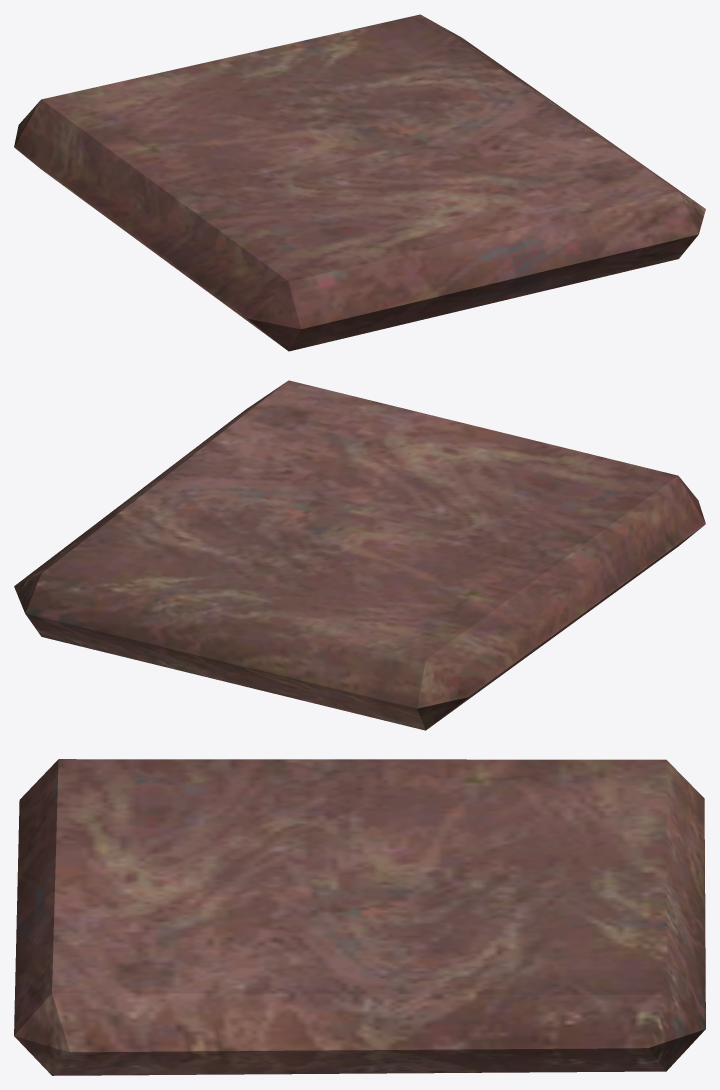
File: frn_all_throwpillow_med_s02_l1.fbx
3 renders of one model, top to bottom at view 1: azimuth 30°, elevation 25°; view 2: azimuth 150°, elevation 25°; view 3: azimuth 270°, elevation 25°, orthographic. The views are drawn at different scales.
Parts seen in each view (by area): view 1: mesh_node; view 2: mesh_node; view 3: mesh_node.
Boxes of the visible parts, x1,y1,x2,y2 form: mesh_node: (14,14,705,351); mesh_node: (14,380,705,730); mesh_node: (14,759,705,1075).
Bounding box in the file's own units: 1.25 × 0.1832 × 1.34.
Materials: 1 (1 with a texture image).
